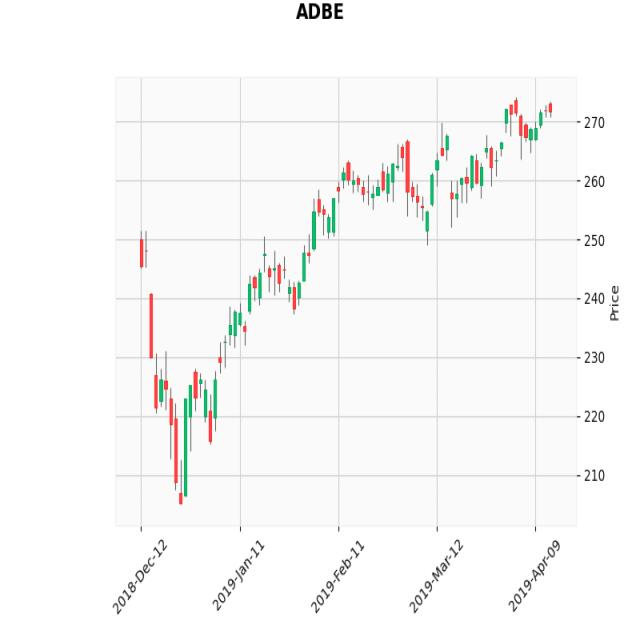Inverse-Head-Shoulders: (147, 328, 224, 508)
